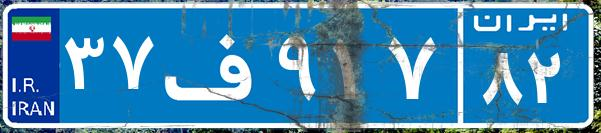1: (330, 28, 385, 110)
2: (525, 38, 570, 115)
3: (57, 26, 110, 107)
7: (385, 28, 445, 110), (110, 28, 158, 105)
8: (475, 38, 525, 113)
9: (273, 28, 330, 110)
ف: (158, 15, 273, 115)
